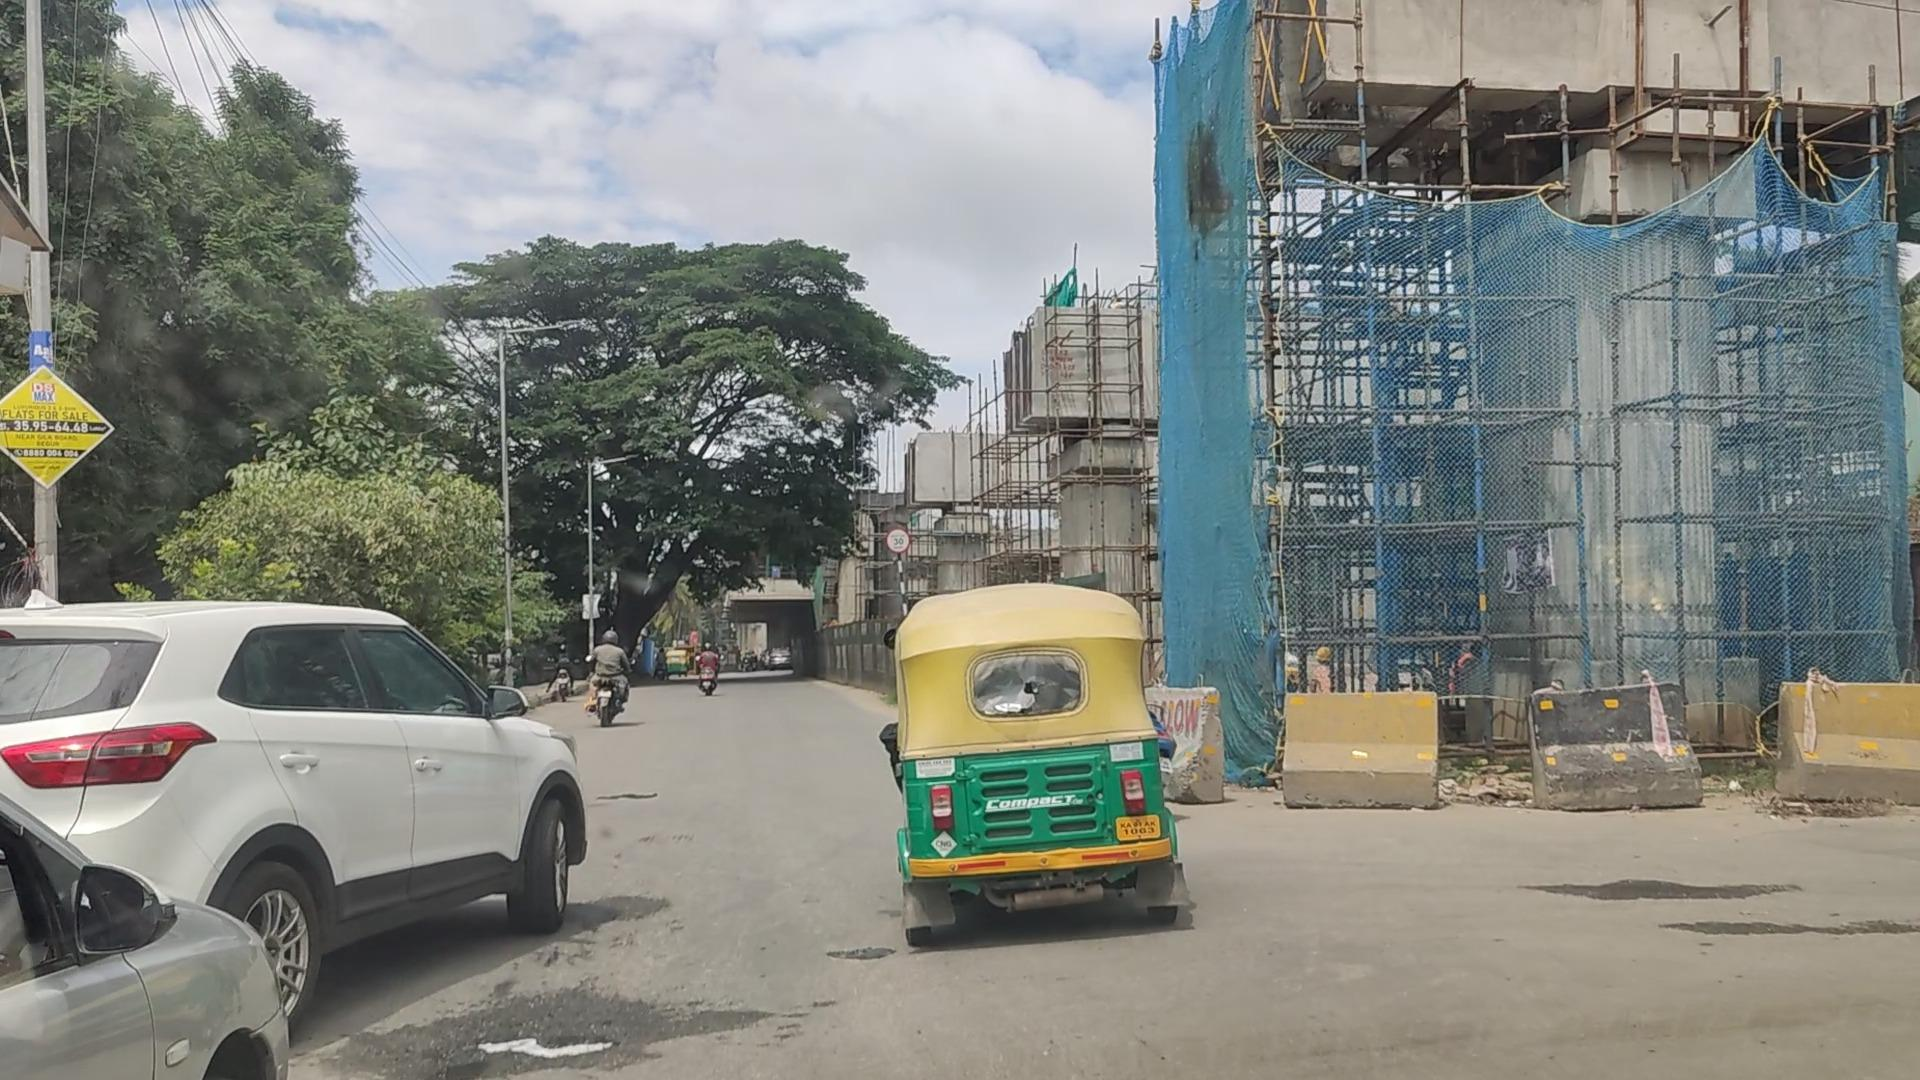LMV: (0, 615, 571, 927), (890, 575, 1172, 953)
RoadDamages: (473, 990, 629, 1076)
